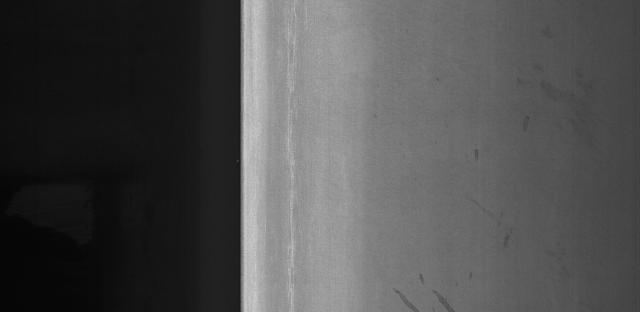water_spot: (383, 258, 464, 311)
